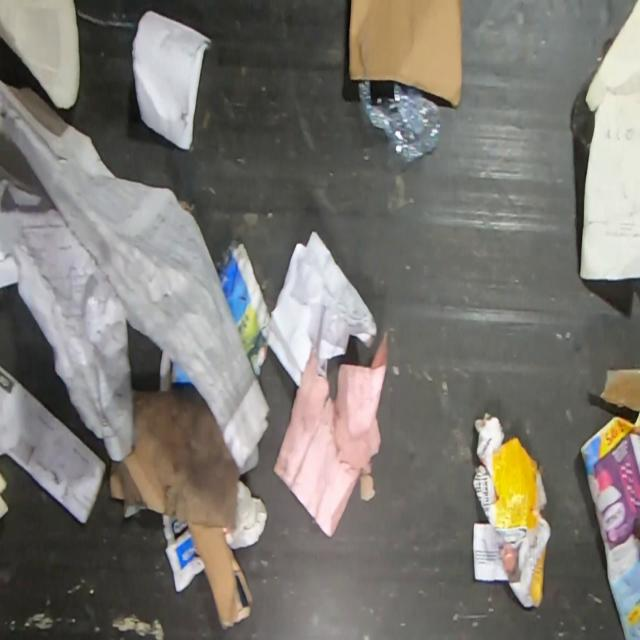cardboard: (108, 383, 253, 625), (472, 409, 551, 608), (348, 0, 462, 106), (599, 362, 640, 416)
rigid_plastic: (358, 80, 441, 165)
